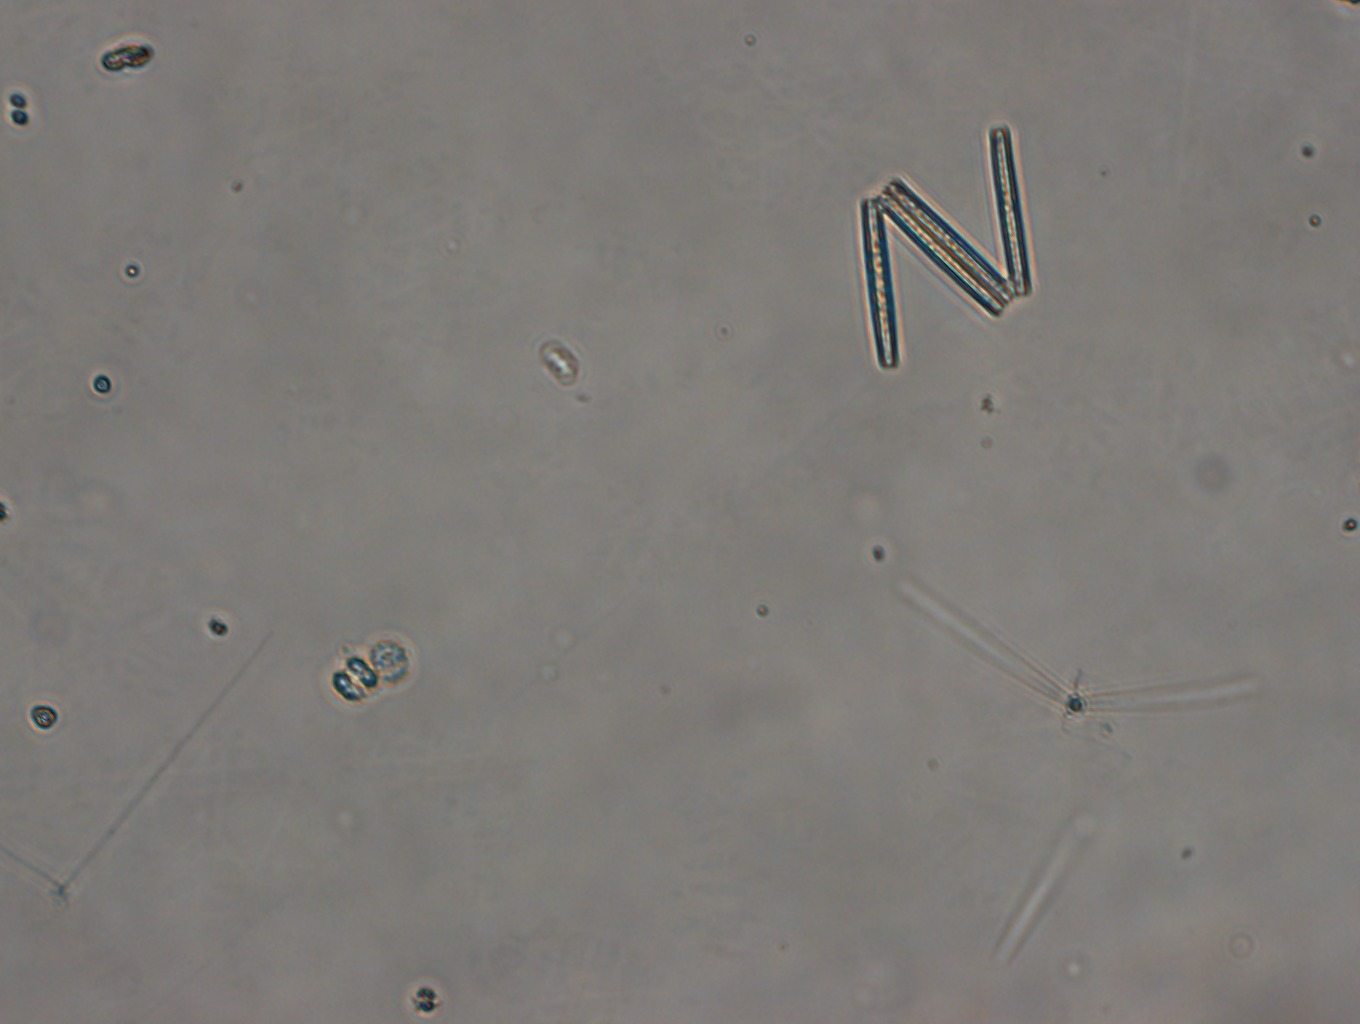thalassionema nitzschioides: (849, 126, 1033, 364)
